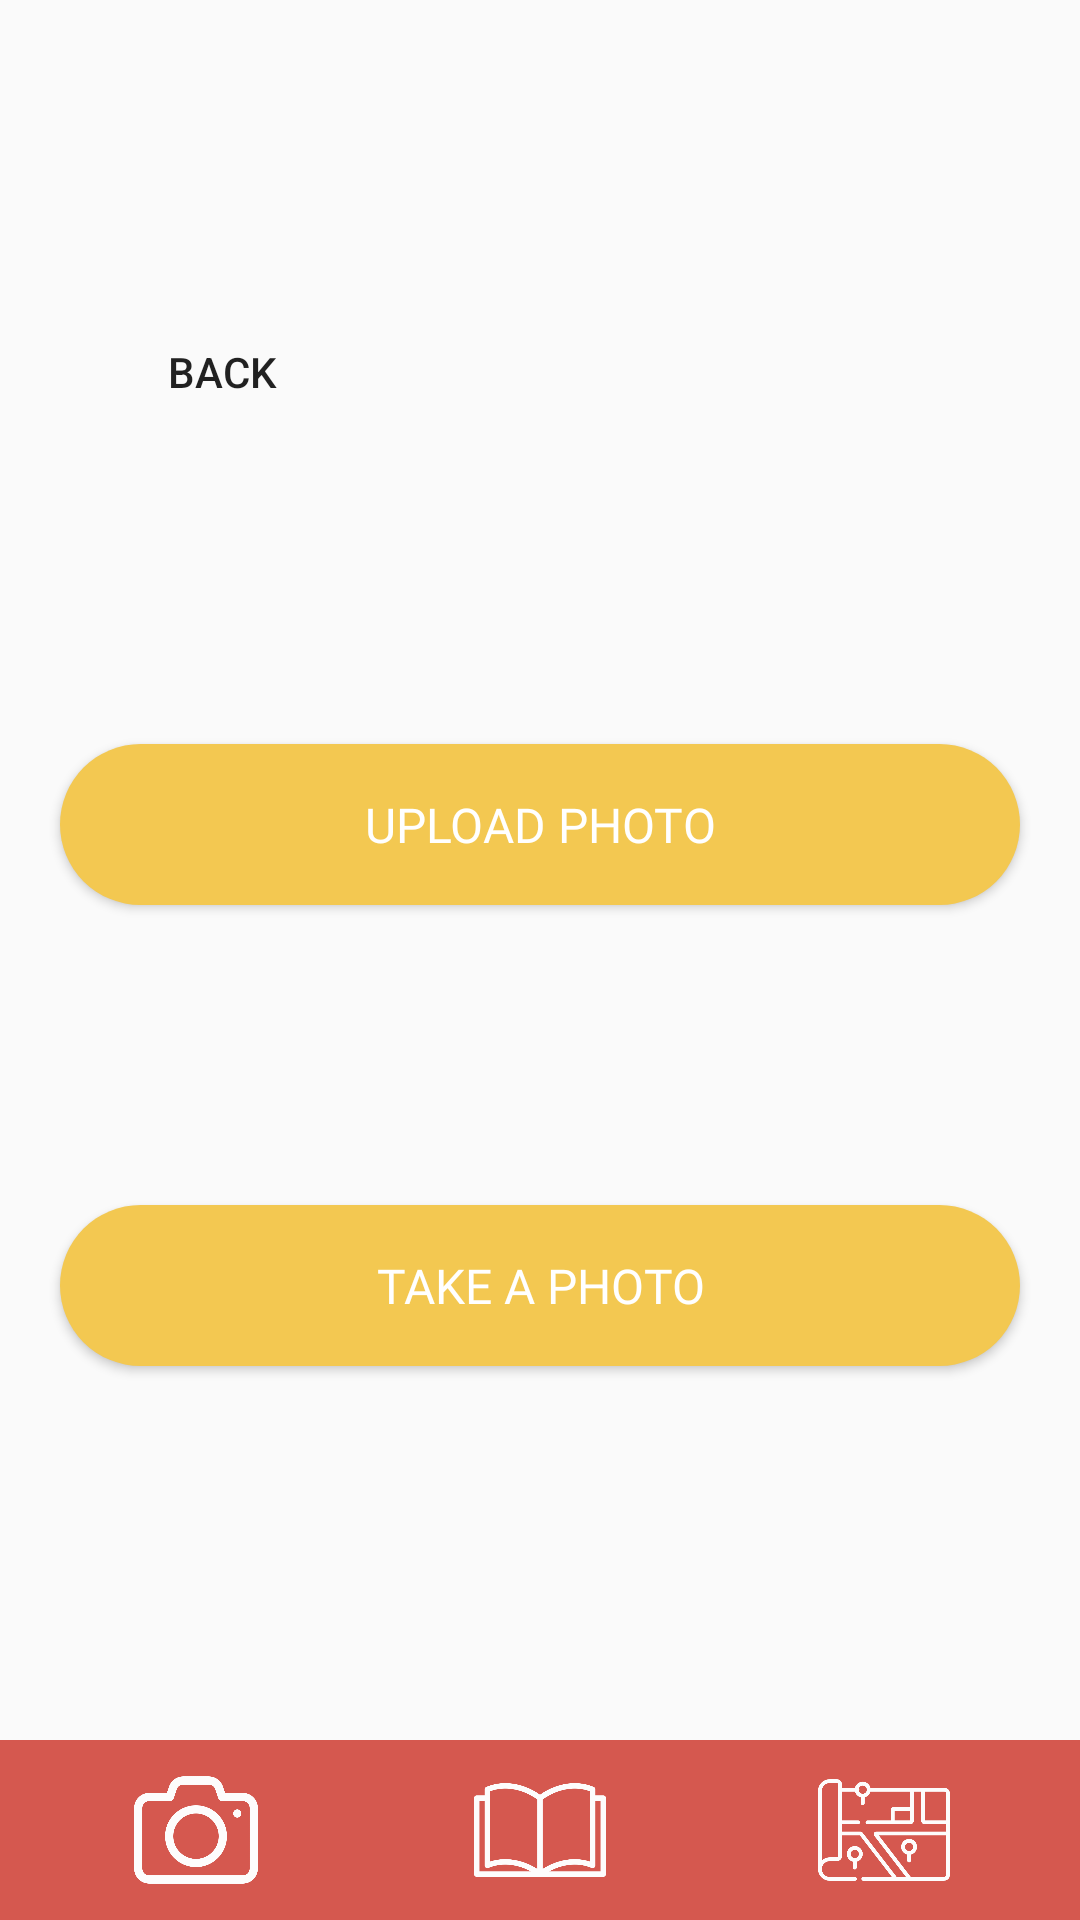

Icons on this 1080px×1920px Android screen, each with the point to tap as (x,y):
camera: (196,1830)
journal: (540,1830)
map: (884,1830)
